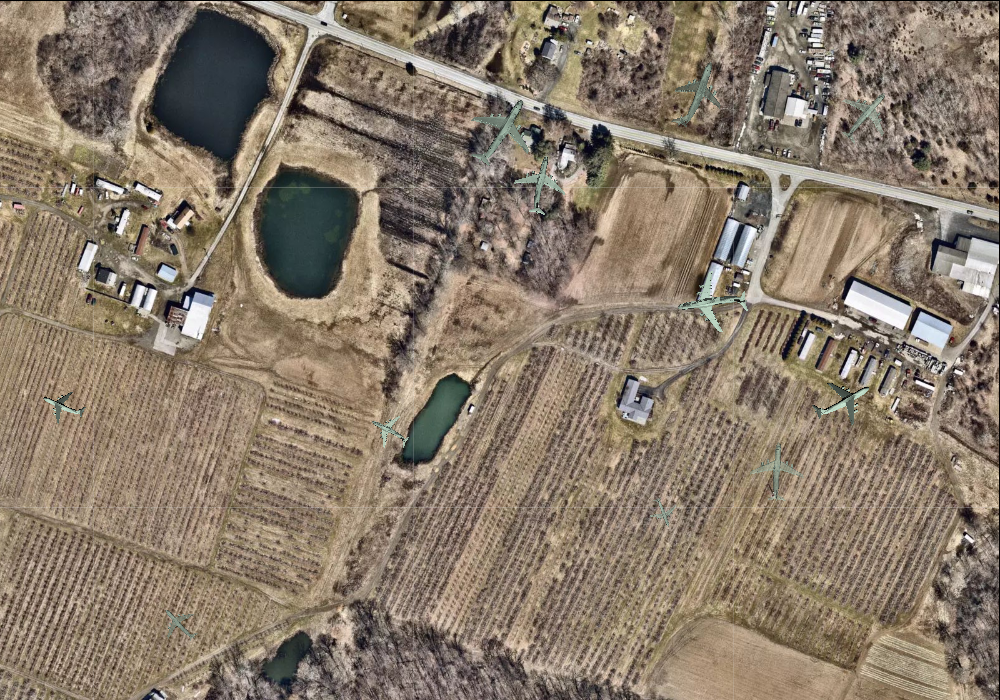plane: (450, 80, 551, 181), (654, 50, 736, 137), (825, 74, 907, 156), (802, 361, 882, 440), (672, 264, 753, 342), (507, 149, 575, 220), (747, 440, 808, 503), (151, 596, 207, 652), (35, 378, 91, 432), (362, 405, 416, 459), (643, 493, 682, 532)
